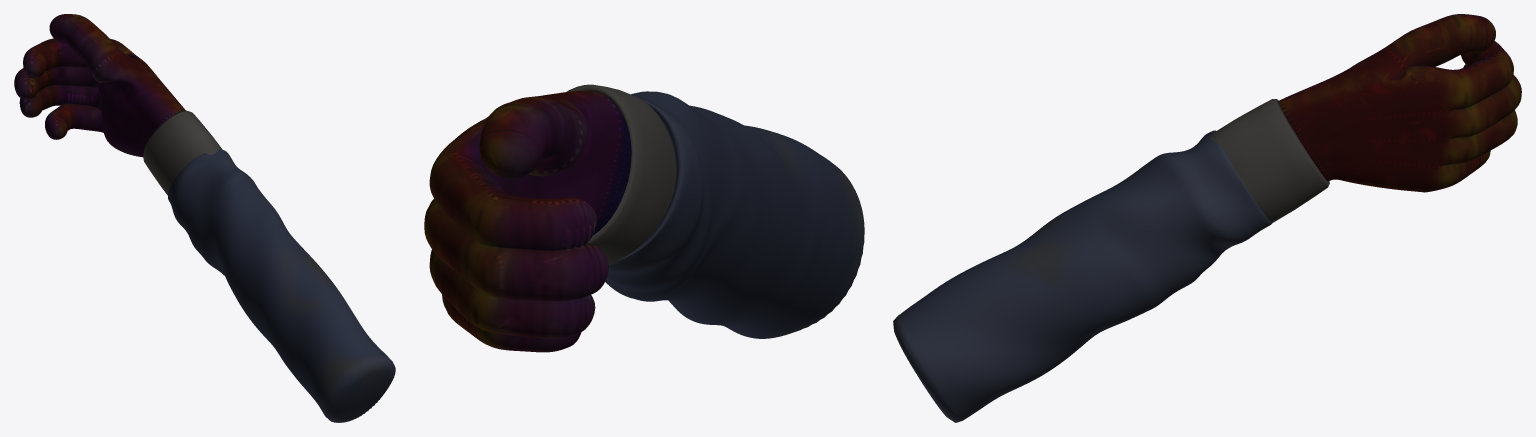
The model's file is fp_hand_R_pinch.glb.
3 renders of one model, left to right at view 1: azimuth 30°, elevation 25°; view 2: azimuth 150°, elevation 25°; view 3: azimuth 270°, elevation 25°, orthographic. The views are drawn at different scales.
Visible parts, largest first — view 1: fp_hand_R_pinch; view 2: fp_hand_R_pinch; view 3: fp_hand_R_pinch.
Part boxes in pixels (x1,y1,x2,y2): fp_hand_R_pinch: (14, 14, 395, 422); fp_hand_R_pinch: (424, 84, 864, 352); fp_hand_R_pinch: (893, 14, 1521, 422).
Bounding box in the file's own units: 0.155 × 0.2542 × 0.4088.
3 materials, 1 textured.
